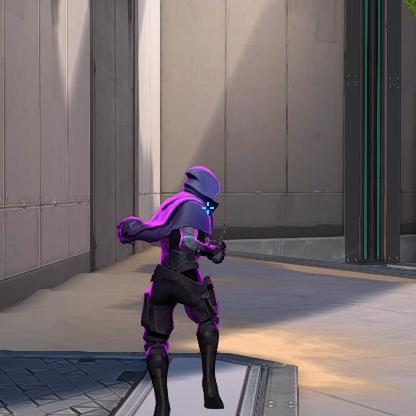enemyBody: (157, 206, 206, 282)
enemyHead: (190, 171, 213, 202)
